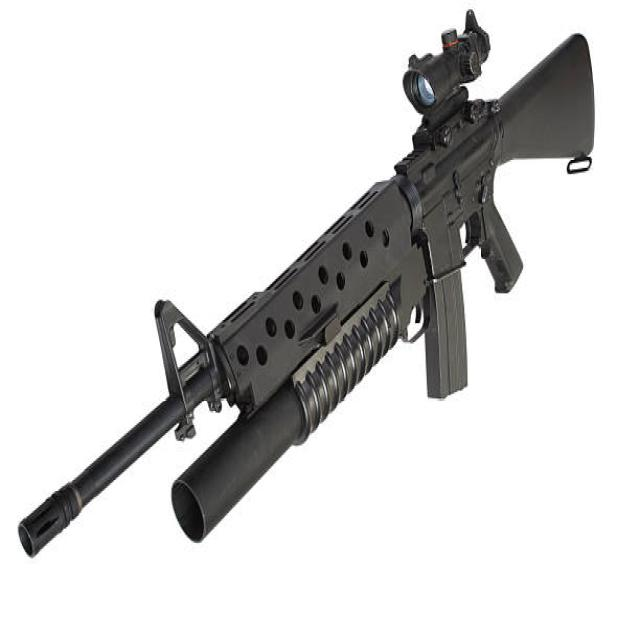rifle: (16, 1, 605, 581)
